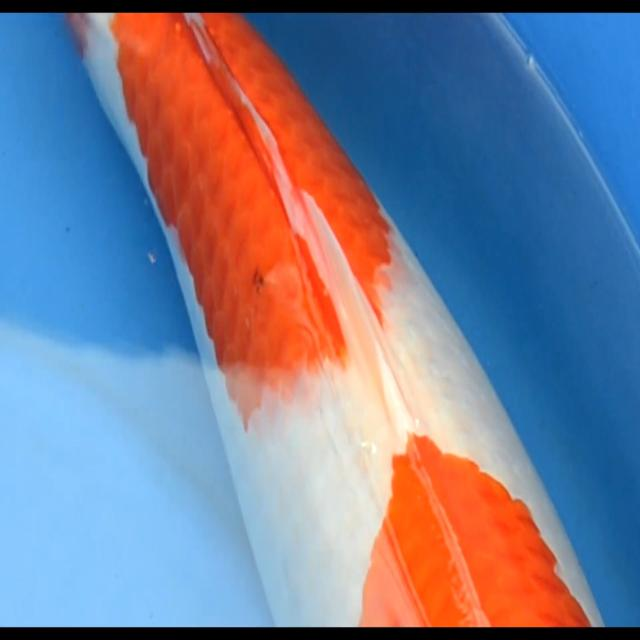Kohaku: (64, 9, 605, 630)
